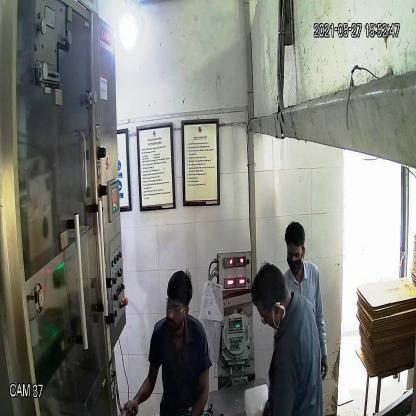goggles: (164, 294, 186, 316)
no_goggles: (281, 247, 307, 262)
